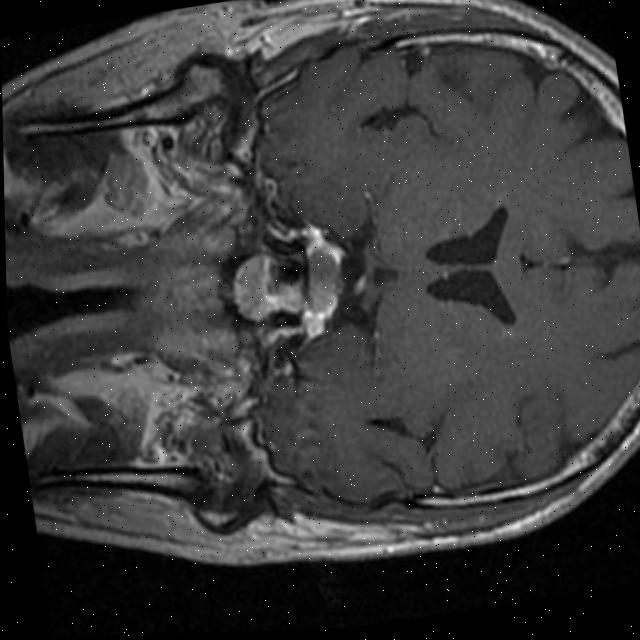Pituitary: (226, 234, 354, 333)
